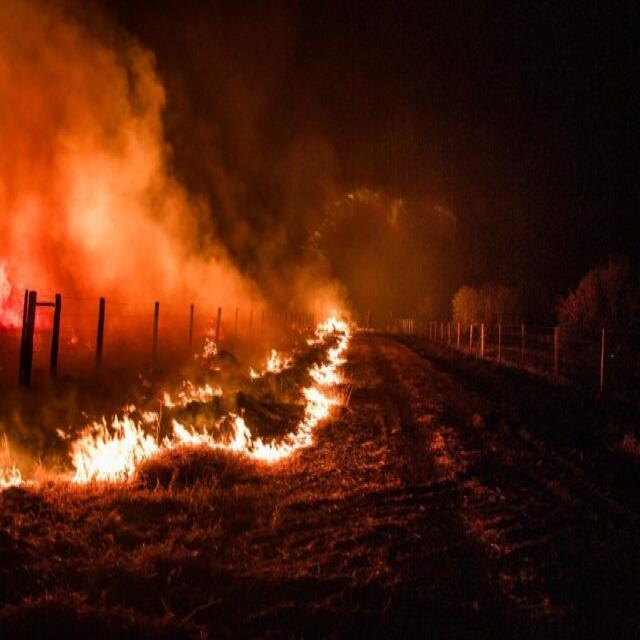Fire: (293, 318, 351, 449), (164, 414, 302, 462), (71, 414, 158, 484), (164, 381, 223, 408), (250, 350, 294, 380), (1, 466, 22, 491), (202, 336, 218, 359)
Smoke: (0, 0, 274, 334)
